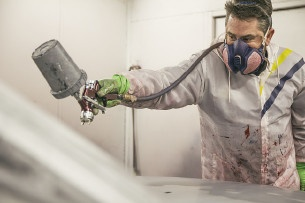Mask: (224, 27, 263, 67)
